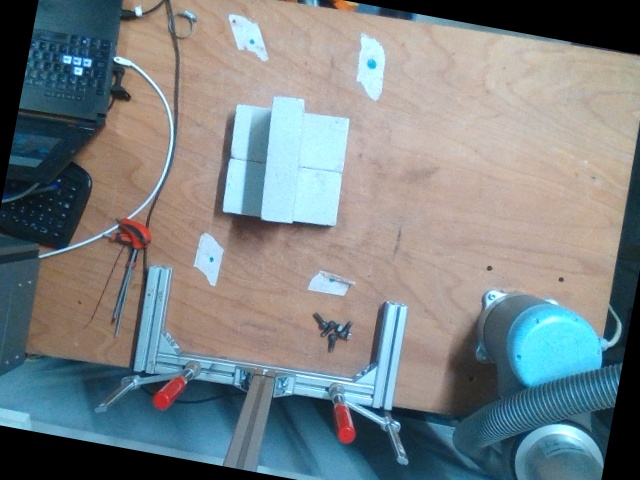brick-side: (260, 97, 304, 221)
